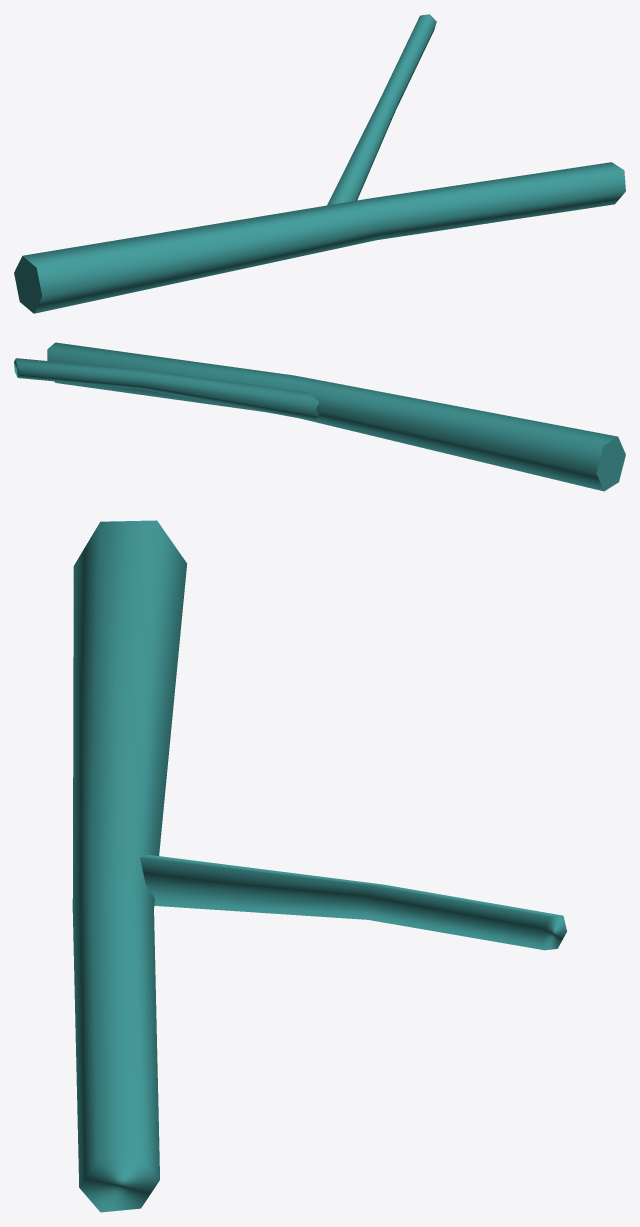
Rendered from brunch_2.FBX.
3 views of the same model, one above another, from view 1: azimuth 30°, elevation 25°; view 2: azimuth 150°, elevation 25°; view 3: azimuth 270°, elevation 25° (orthographic). The views are drawn at different scales.
Visible parts, largest first — view 1: brunch_2; view 2: brunch_2; view 3: brunch_2.
Part boxes in pixels (x1,y1,x2,y2): brunch_2: [14, 14, 625, 313]; brunch_2: [14, 342, 625, 491]; brunch_2: [72, 520, 566, 1212].
Bounding box in the file's own units: 1352 × 265 × 512.
